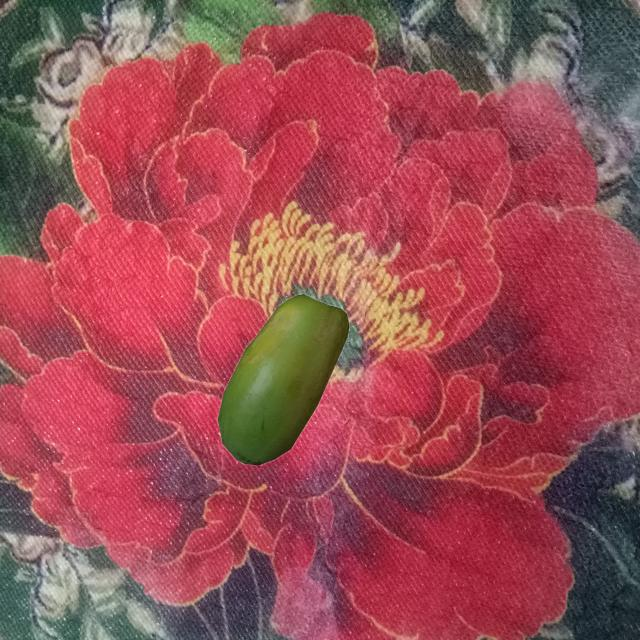Pepaya unrippen: (217, 298, 346, 468)
